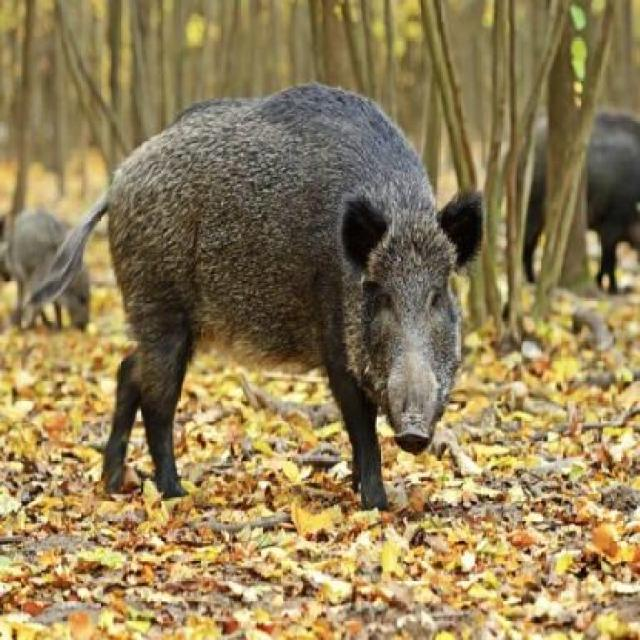wildboar: (24, 79, 488, 518), (486, 106, 640, 302), (0, 203, 91, 329)
